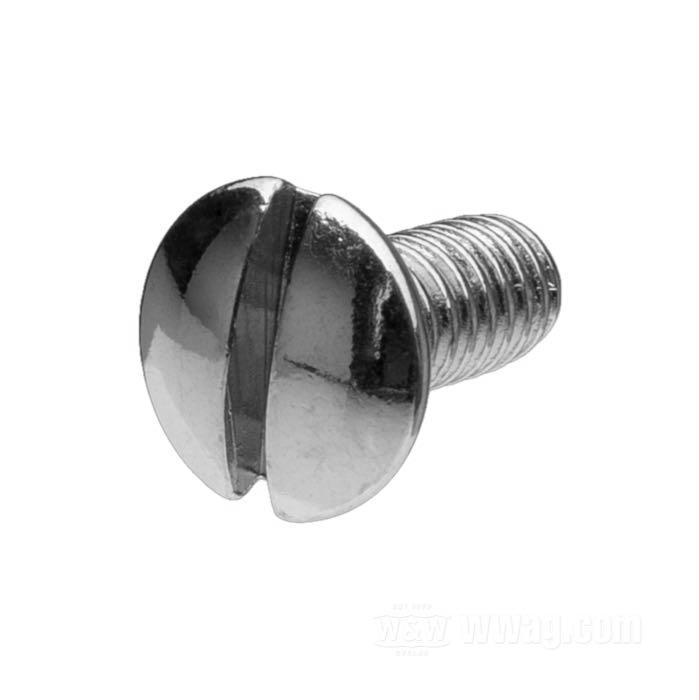slotted: (129, 169, 433, 531)
